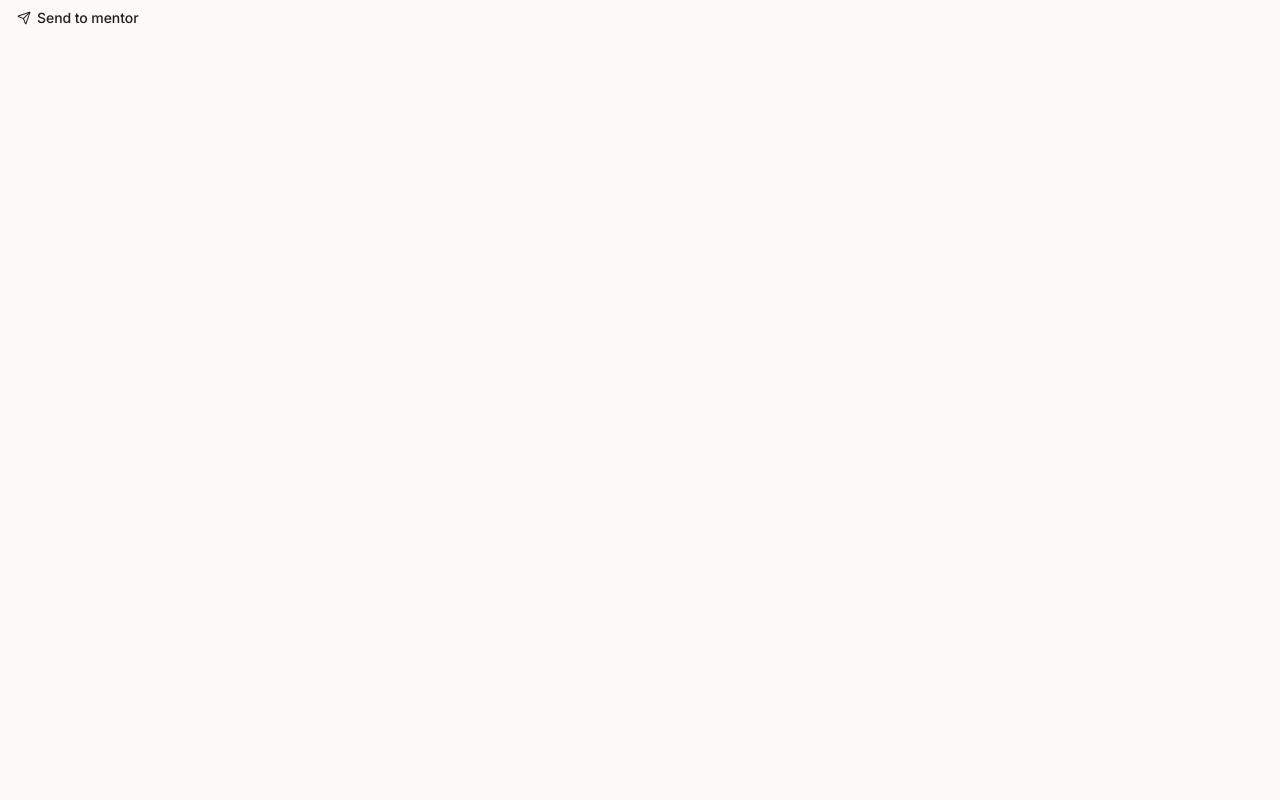
Test: sending a small order to a mentor › says why when the send fails, and keeps the control
Click the button "Send to mentor": (78, 18) [0,0,156,36]
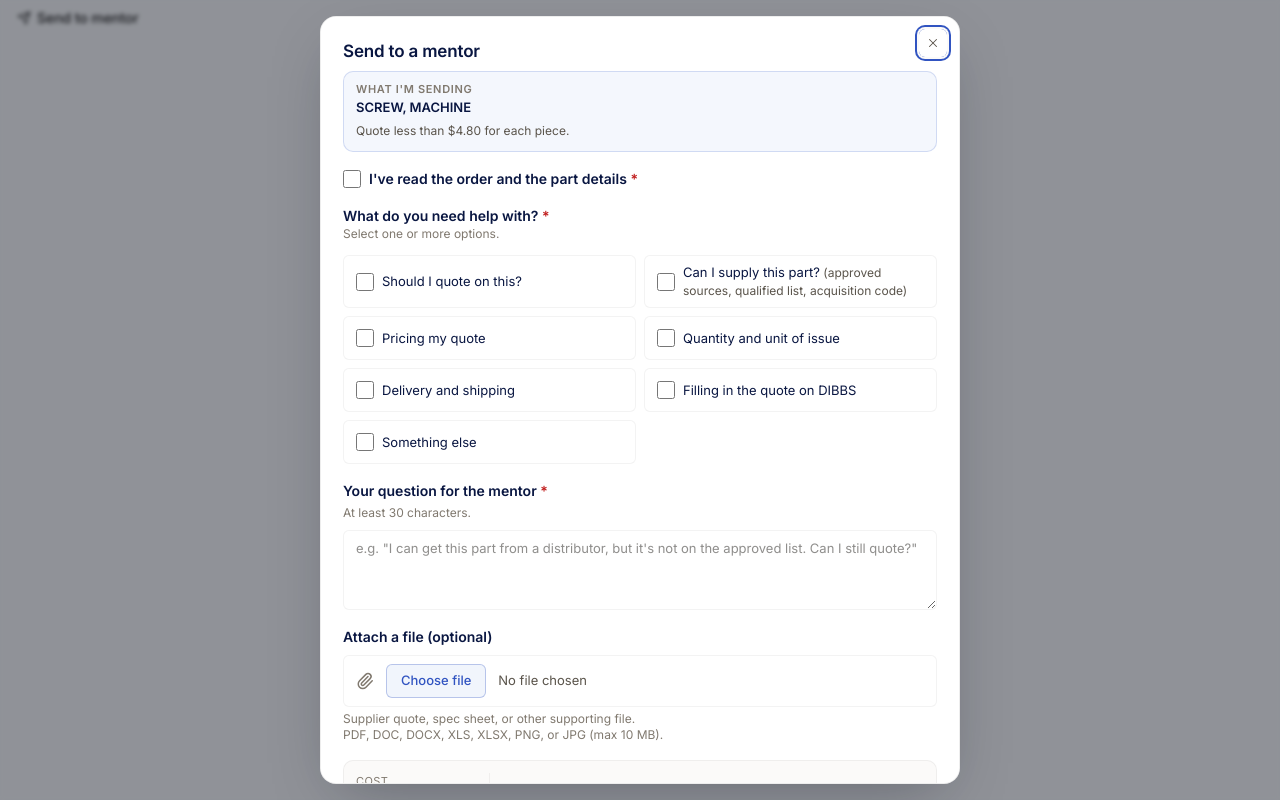
Click the checkbox labelled "I've read the order and the part details *": (352, 179) [343,170,361,188]
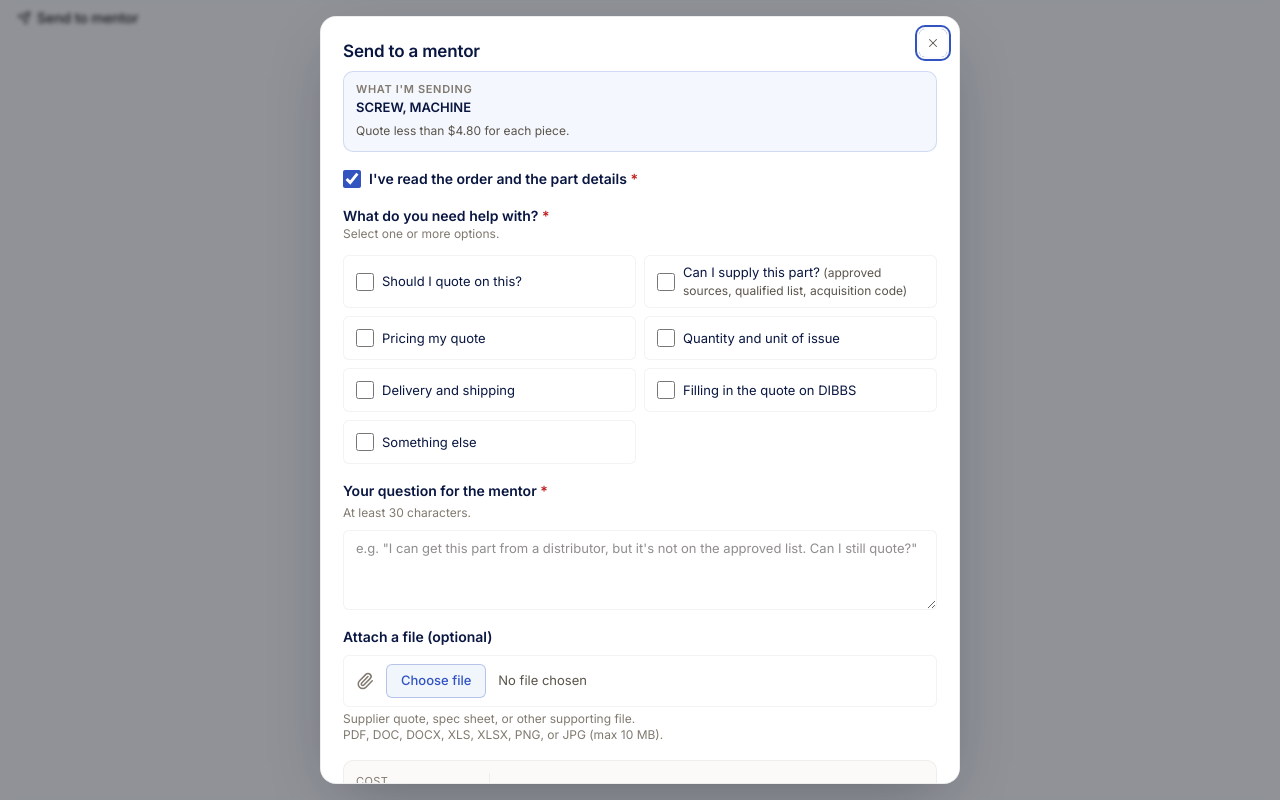
Click the checkbox labelled "Pricing my quote": (365, 338) [356,329,374,347]
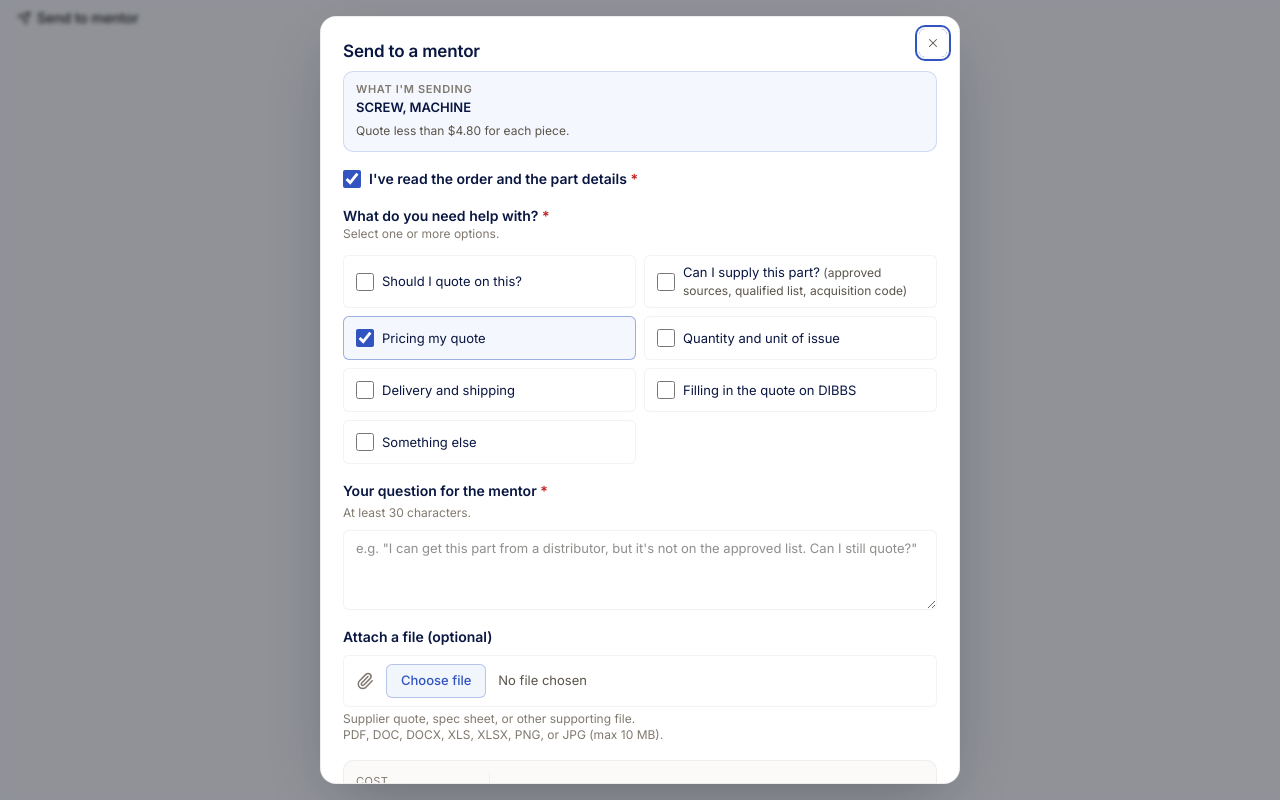
Replace the text in the text box labelled "Your question for the mentor *" with "I can get this part from a distributor. Can I still quote?": (640, 570) [343,530,937,610]
(page scrolled)
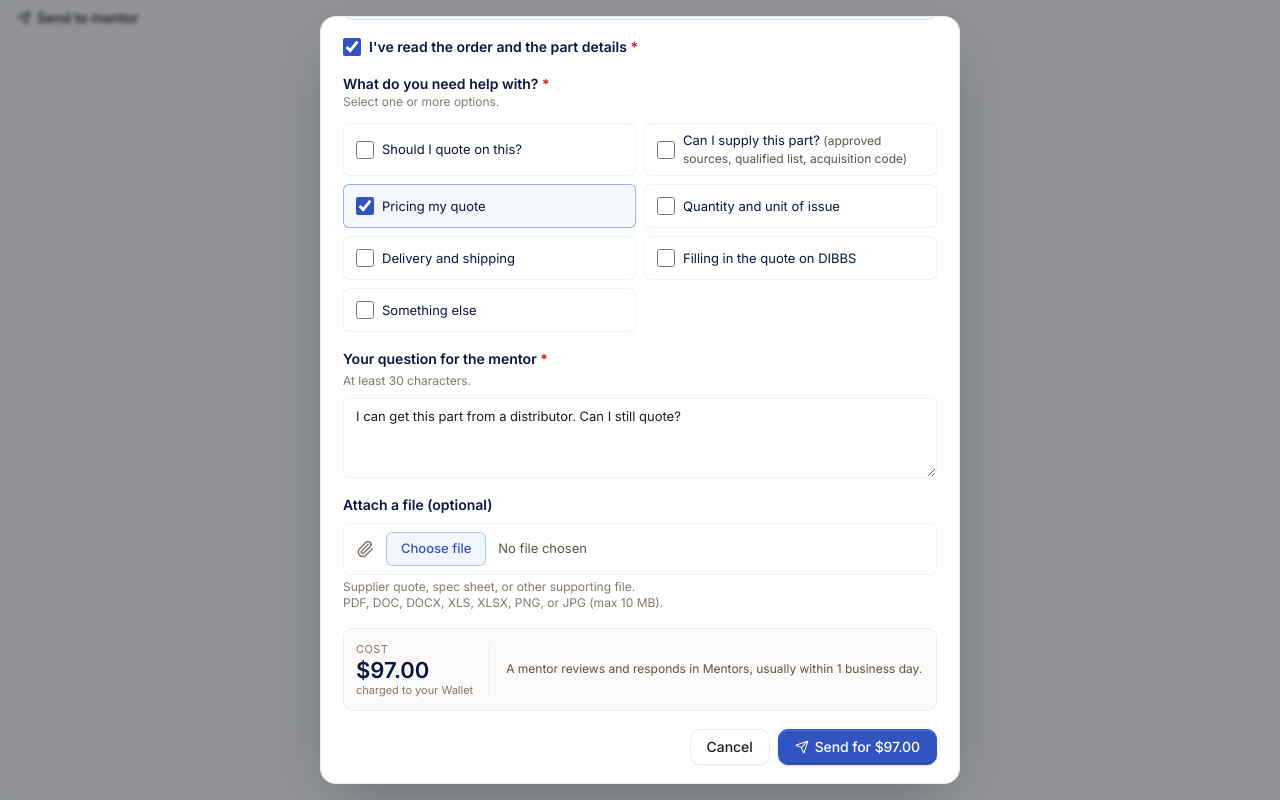
Result: the button "Send for $97.00" is enabled
Click the button "Send for $97.00": (857, 747) [778,729,937,765]
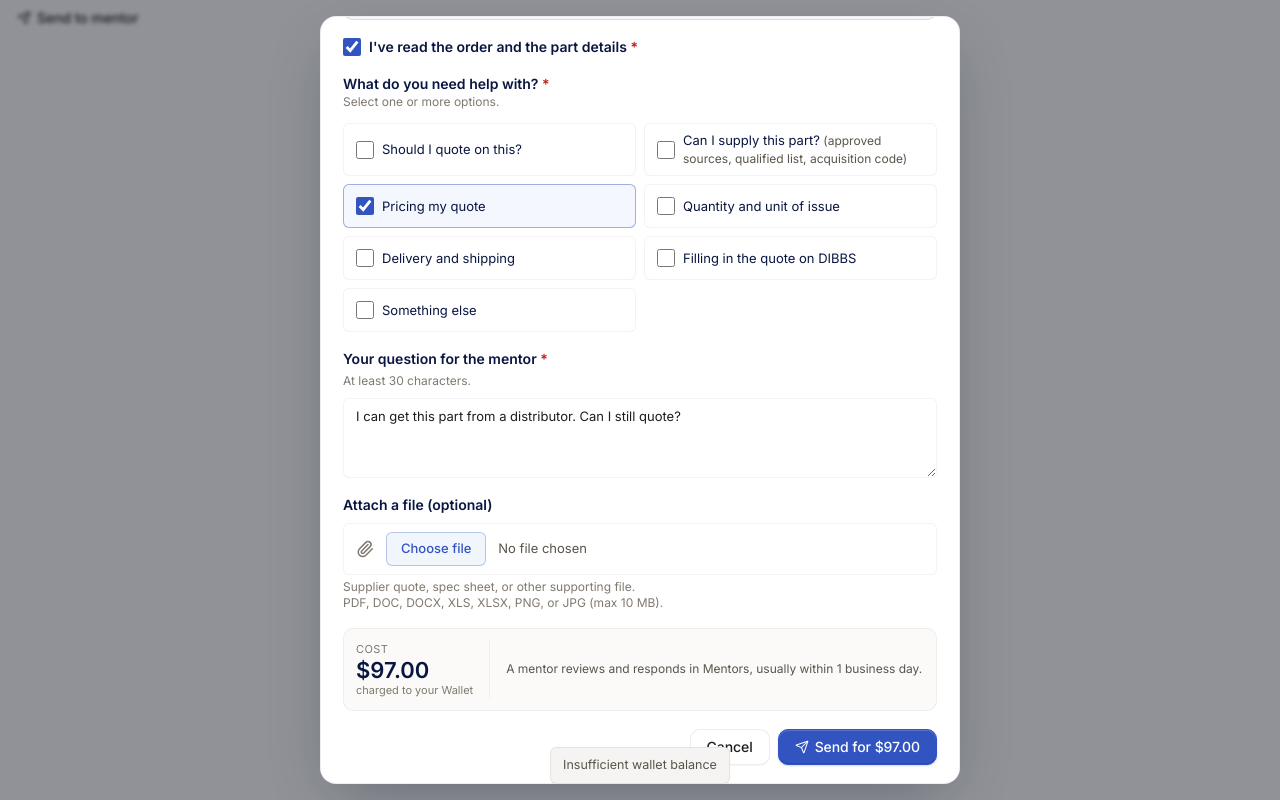
Expected: the button "Send to mentor" is shown, [0,0,156,36]
Result: the message reads "Insufficient wallet balance" at [563,757,717,772]
